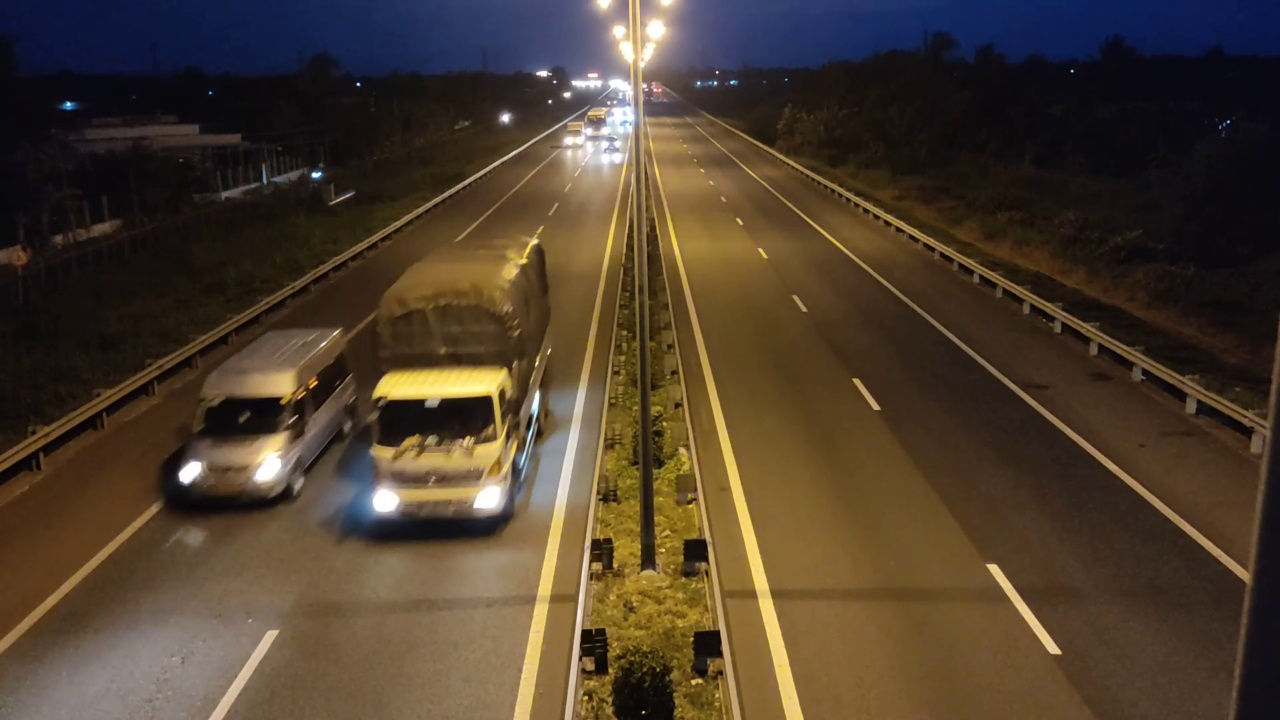car: (170, 326, 348, 510)
truck: (357, 229, 554, 540)
